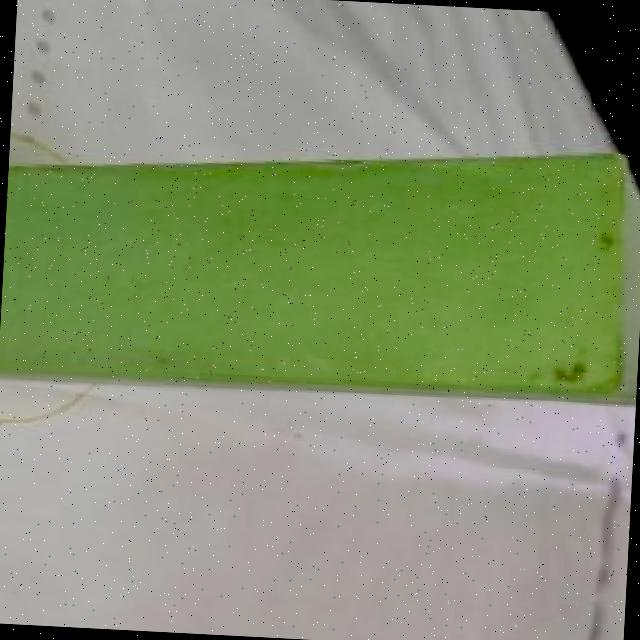greenbox: (0, 121, 640, 412)
